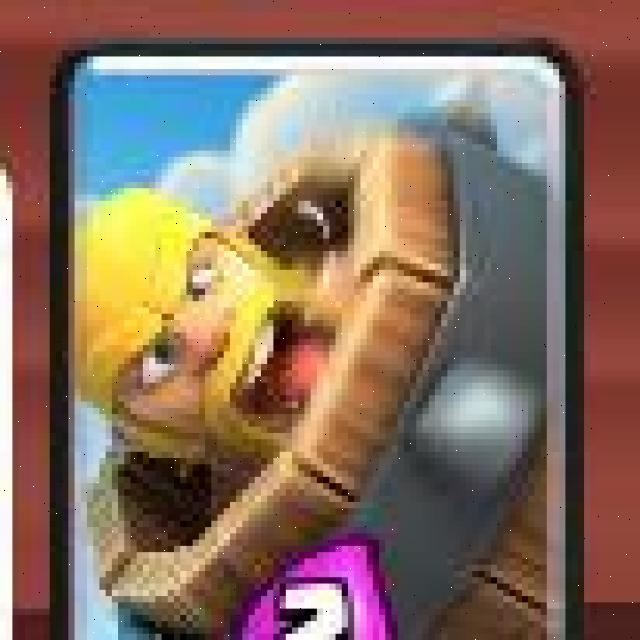Barbarian_Barrel: (46, 39, 586, 640)
